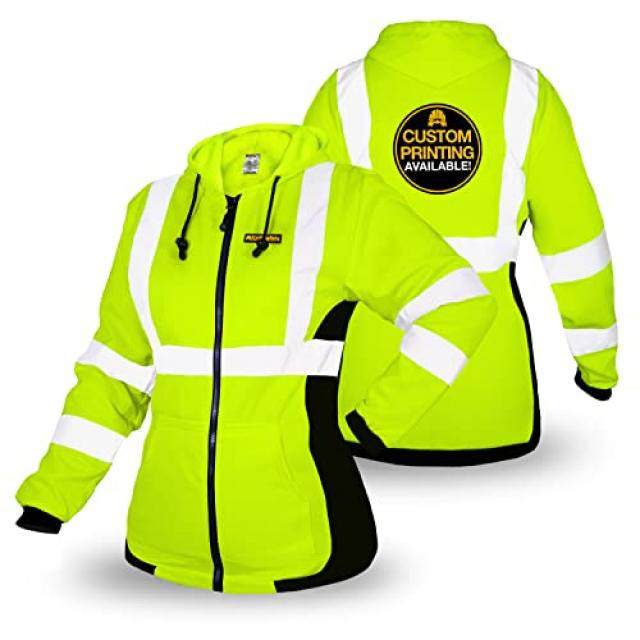Reflective-Jacket: (6, 123, 429, 614), (300, 12, 624, 470)
